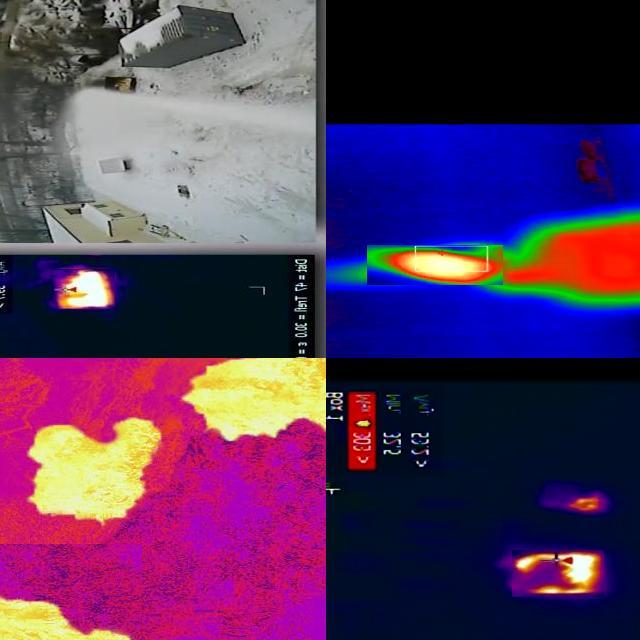fire: (26, 419, 163, 526), (184, 359, 327, 444), (1, 597, 136, 640), (368, 245, 504, 285), (513, 550, 605, 597), (54, 269, 116, 309), (562, 493, 609, 515)
